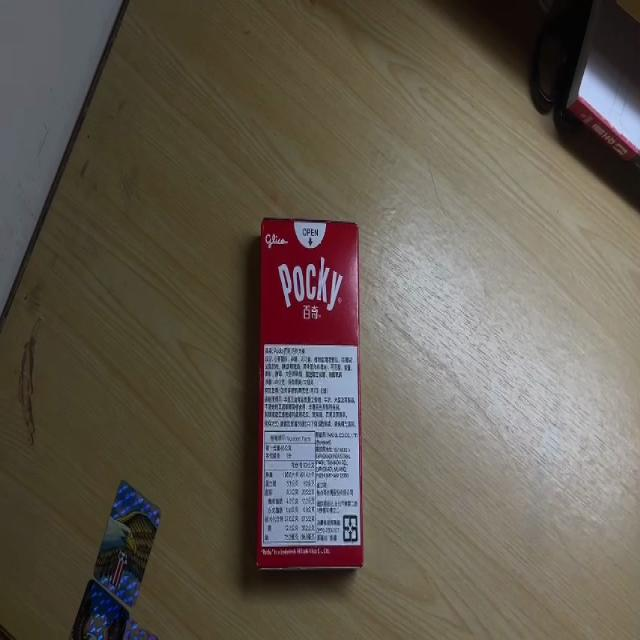Pocky: (258, 215, 362, 571)
